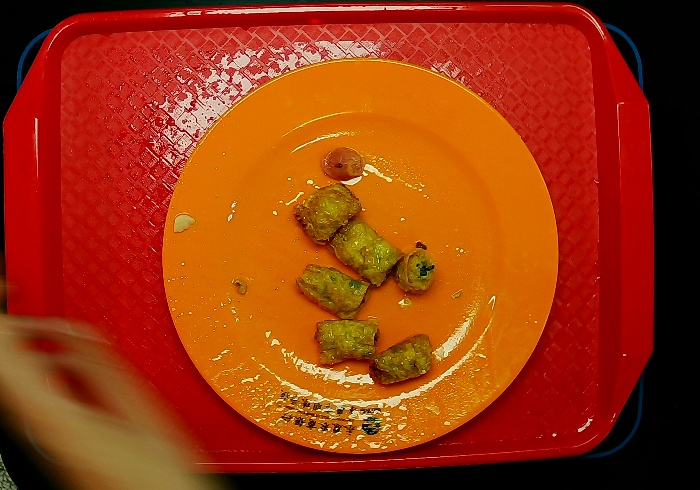YKMZ-Ju_Se_Mian_Pan: (159, 58, 559, 457)
